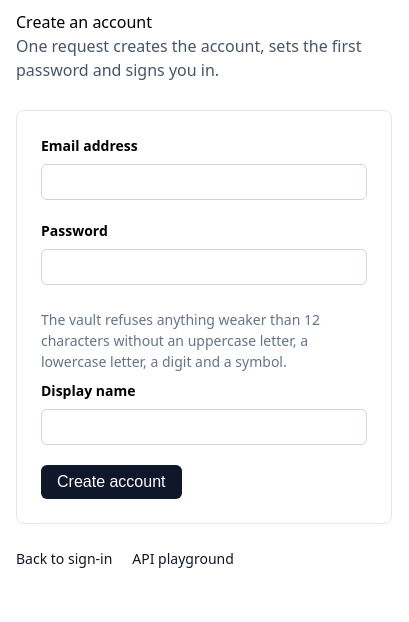
Test case: Register › reports the gateway being unreachable
Type "ada@example.test" into the field labelled "Email address" at point(204, 182), box [41, 164, 367, 200]
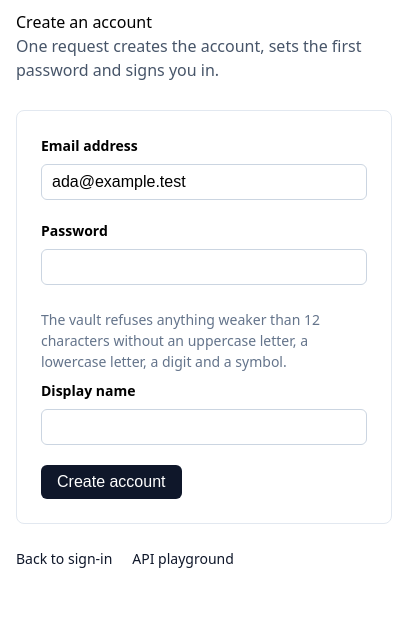
Type "Str0ng-Passw0rd!x" into the password field labelled "Password" at point(204, 267), box [41, 249, 367, 285]
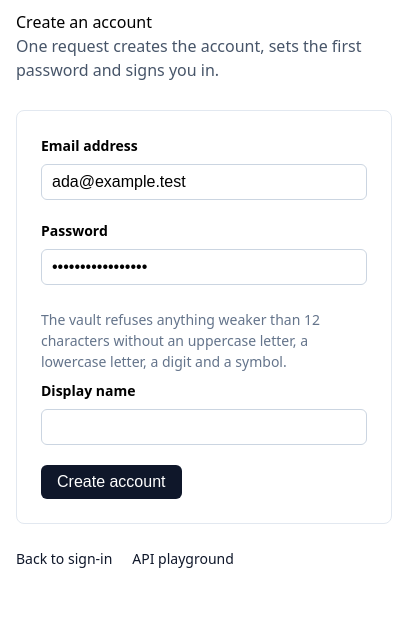
Submit the form
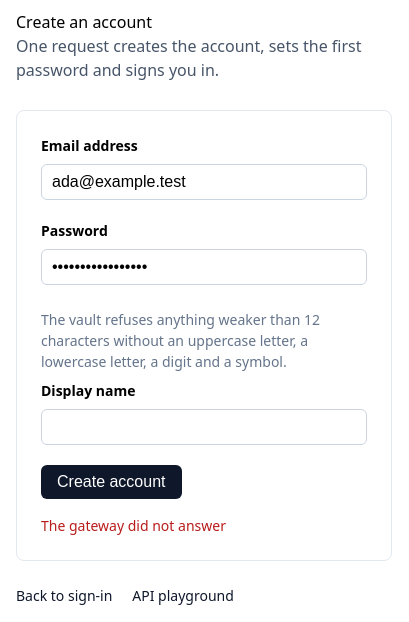
Expected: the message reads "The gateway did not answer", [41, 516, 226, 535]
